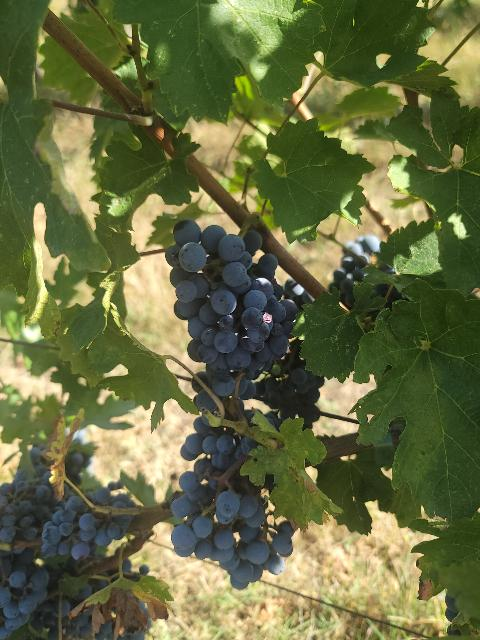grapes: (165, 219, 298, 398), (171, 458, 270, 584), (255, 339, 324, 429), (41, 496, 132, 560)
